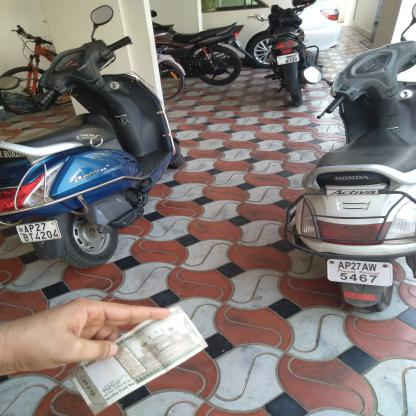New500Back: (80, 316, 196, 388)
